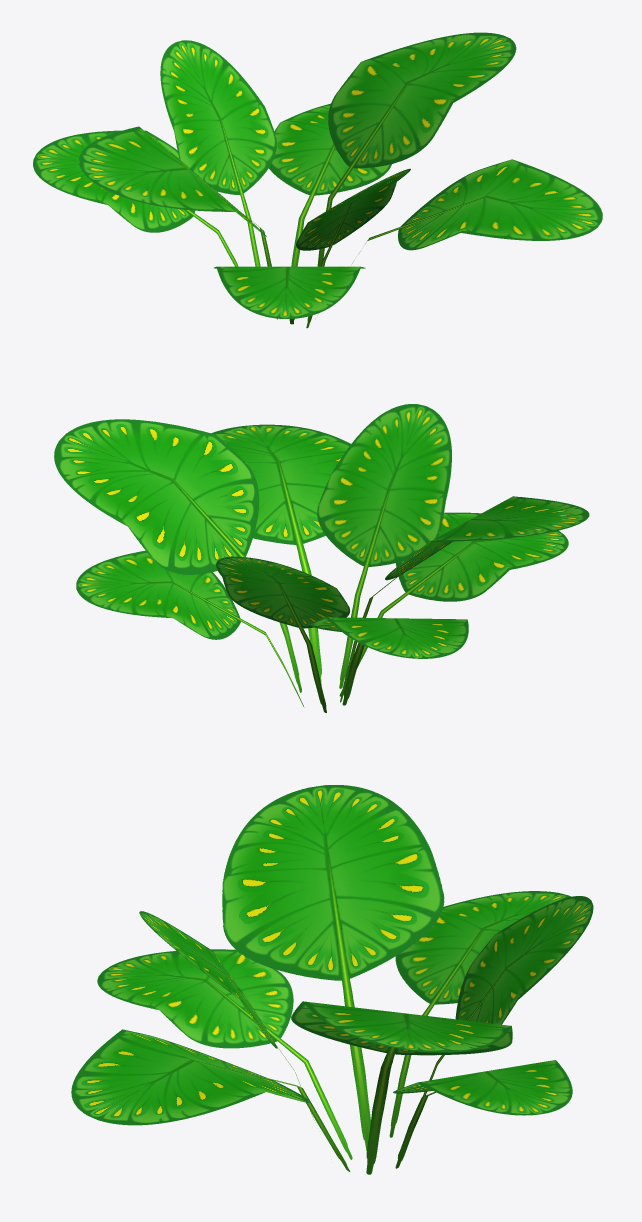
The model's file is Bush_05a.FBX.
3 views of the same model, one above another, from view 1: azimuth 30°, elevation 25°; view 2: azimuth 150°, elevation 25°; view 3: azimuth 270°, elevation 25° (orthographic). The views are drawn at different scales.
Visible parts, largest first — view 1: Bush_05a; view 2: Bush_05a; view 3: Bush_05a.
Boxes of the visible parts, left/top/right/bottom form: Bush_05a: left=33, top=32, right=602, bottom=328; Bush_05a: left=54, top=404, right=589, bottom=712; Bush_05a: left=71, top=785, right=593, bottom=1174.
Bounding box in the file's own units: 1.01 × 0.4447 × 0.9431.
